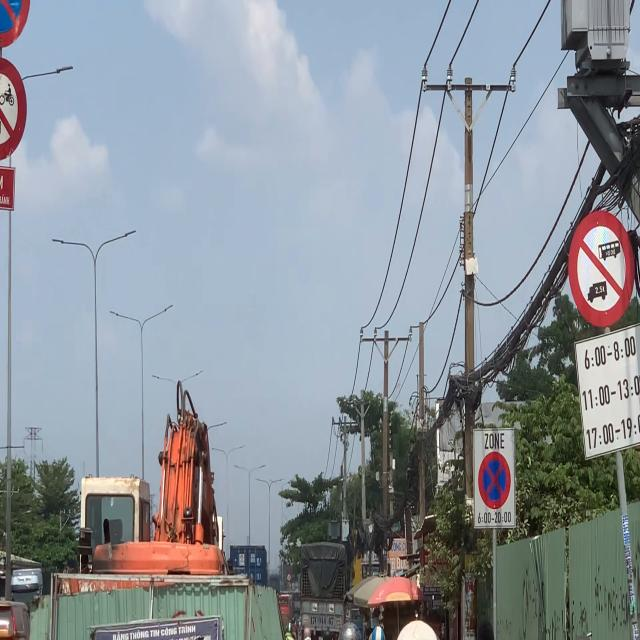Cam con lai: (566, 209, 637, 327)
Cam dung va do: (477, 450, 512, 511)
